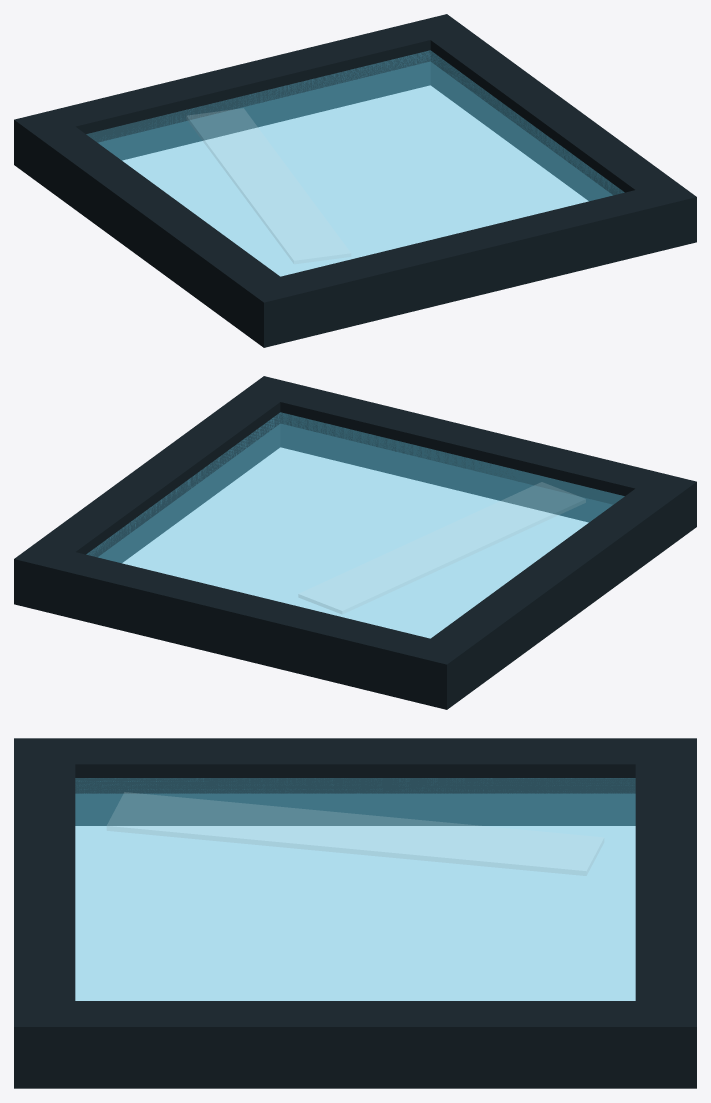
The model's file is skylight_1x1.glb.
3 views of the same model, one above another, from view 1: azimuth 30°, elevation 25°; view 2: azimuth 150°, elevation 25°; view 3: azimuth 270°, elevation 25° (orthographic). The views are drawn at different scales.
Parts seen in each view (by area): view 1: Glass_Surface, Frame_South, Frame_North, Frame_West, Frame_East, Reflection_Stripe; view 2: Glass_Surface, Frame_North, Frame_South, Frame_West, Frame_East, Reflection_Stripe; view 3: Glass_Surface, Frame_West, Frame_East, Frame_North, Frame_South, Reflection_Stripe.
Boxes of the visible parts, bbox=[...] form: Glass_Surface: bbox=[86, 50, 624, 276]; Frame_South: bbox=[241, 180, 696, 347]; Frame_North: bbox=[14, 14, 468, 180]; Frame_West: bbox=[36, 126, 279, 330]; Frame_East: bbox=[430, 30, 673, 201]; Reflection_Stripe: bbox=[187, 108, 350, 263]; Glass_Surface: bbox=[86, 412, 624, 638]; Frame_North: bbox=[14, 542, 469, 709]; Frame_South: bbox=[242, 376, 696, 542]; Frame_West: bbox=[431, 488, 674, 692]; Frame_East: bbox=[37, 392, 280, 563]; Reflection_Stripe: bbox=[299, 482, 585, 613]; Glass_Surface: bbox=[75, 778, 635, 1000]; Frame_West: bbox=[75, 738, 635, 825]; Frame_East: bbox=[75, 1001, 635, 1088]; Frame_North: bbox=[635, 738, 696, 1088]; Frame_South: bbox=[14, 738, 75, 1088]; Reflection_Stripe: bbox=[107, 792, 603, 875].
Size of the model in its own units: 1 by 0.1 by 1.
